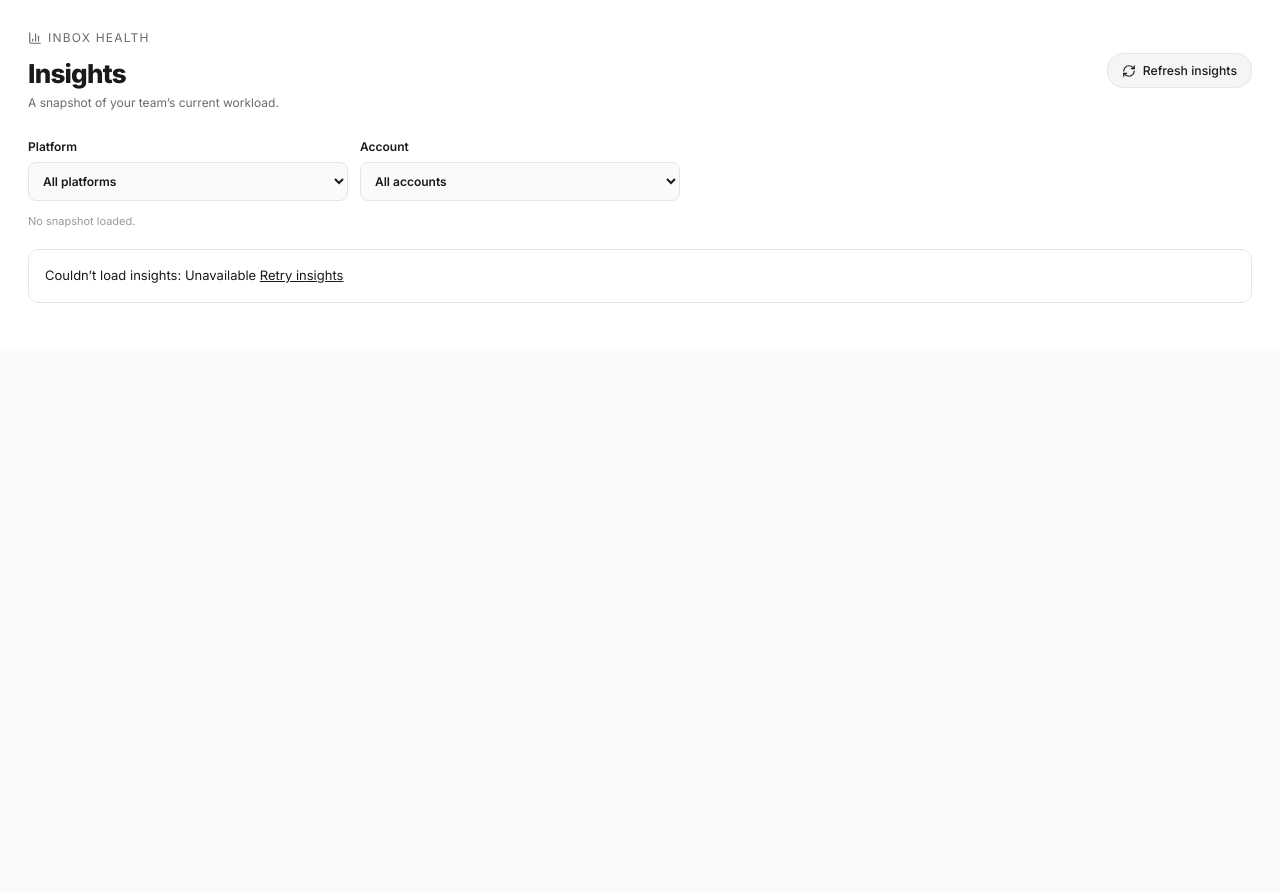
inbox reporting › shows loading, retryable errors and an empty successful snapshot
Check: the text "Loading inbox insights…" is shown, box [28,214,135,228]
Check: the message "Couldn’t load insights: Unavailable Retry insights" is shown, box [28,249,1252,303]
Click the button "Retry insights" at (302, 276), box [260,266,343,286]
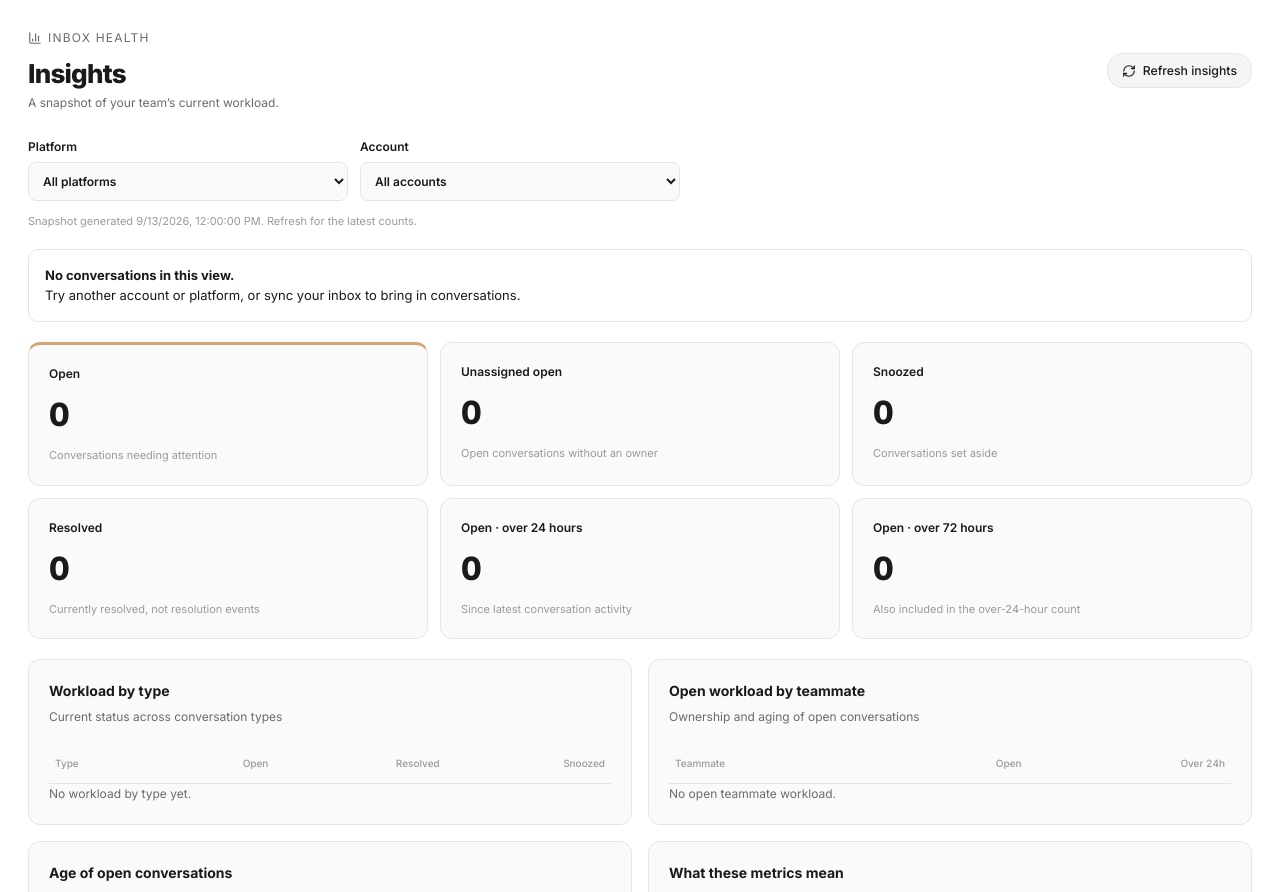
Check: the text "No conversations in this view." is shown, box [45,267,234,283]
